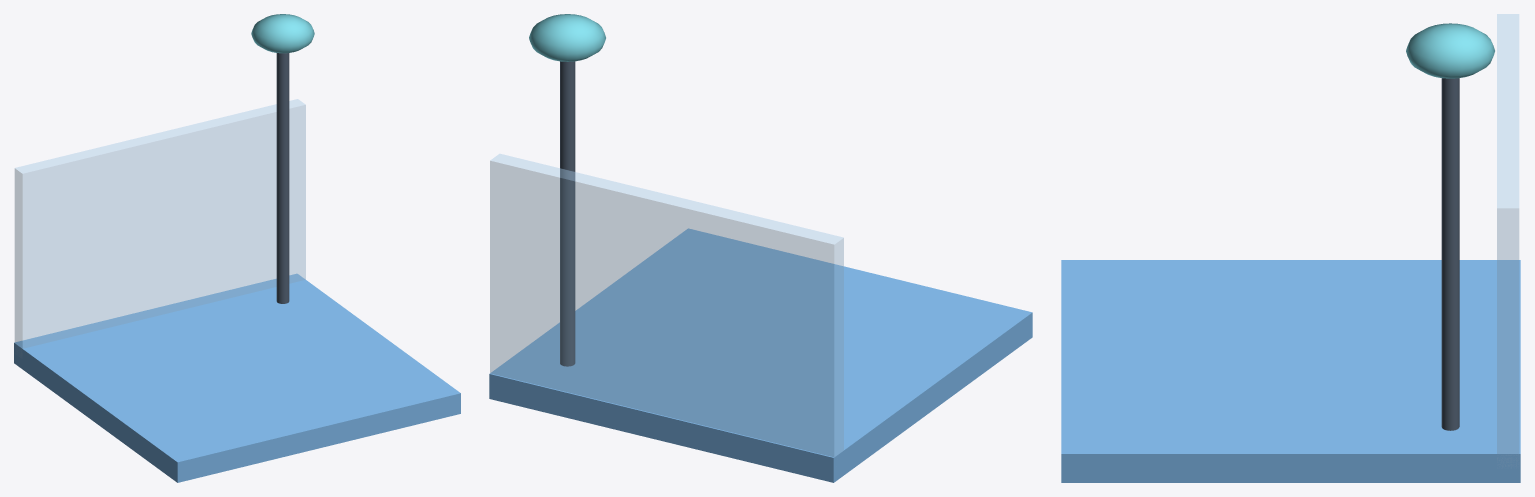
The model's file is shower.glb.
3 views of the same model, side by side, from view 1: azimuth 30°, elevation 25°; view 2: azimuth 150°, elevation 25°; view 3: azimuth 270°, elevation 25° (orthographic). The views are drawn at different scales.
Visible parts, largest first — view 1: low shower tray, transparent shower glass screen, shower riser pipe, round shower head; view 2: low shower tray, transparent shower glass screen, shower riser pipe, round shower head; view 3: low shower tray, transparent shower glass screen, shower riser pipe, round shower head.
Part boxes in pixels (box(x1,y1,x2,y2)): low shower tray: box(14, 273, 460, 482); transparent shower glass screen: box(15, 99, 305, 357); shower riser pipe: box(276, 53, 289, 303); round shower head: box(251, 14, 314, 53); low shower tray: box(489, 228, 1032, 482); transparent shower glass screen: box(490, 154, 843, 456); shower riser pipe: box(560, 61, 575, 366); round shower head: box(529, 14, 605, 61); low shower tray: box(1061, 260, 1520, 482); transparent shower glass screen: box(1497, 14, 1518, 467); shower riser pipe: box(1441, 78, 1459, 430); round shower head: box(1406, 23, 1494, 78).
Bounding box in the file's own units: 0.72 × 0.735 × 0.72.
